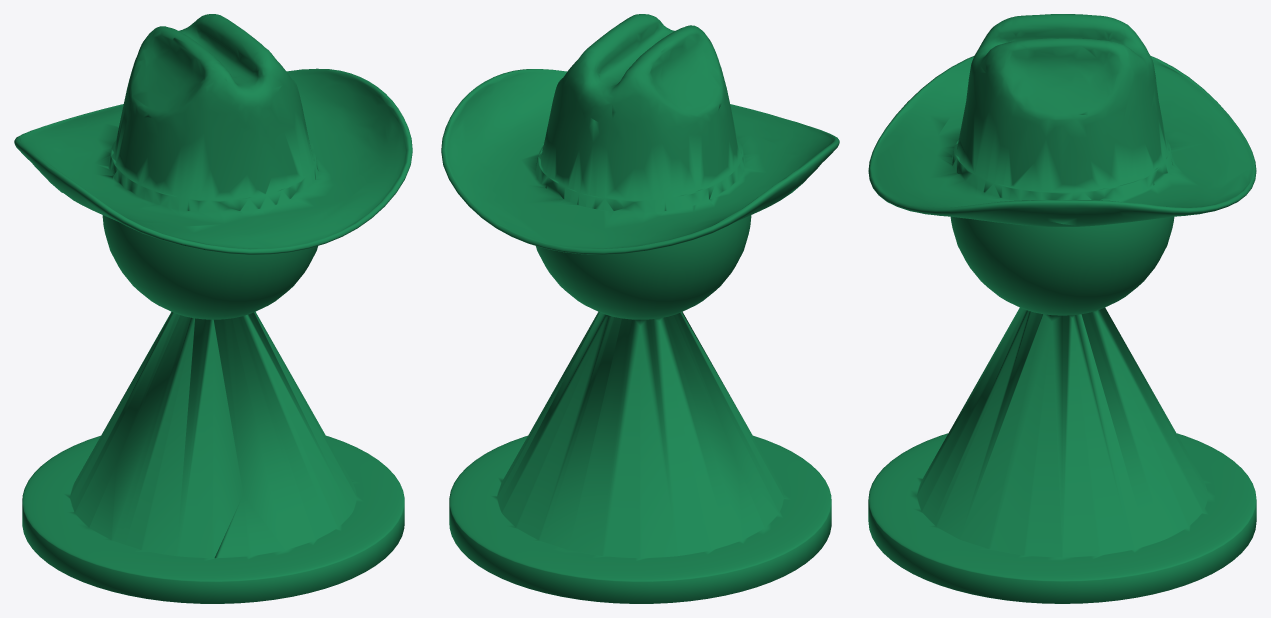
File: Engenheiro_Agronomo.fbx
3 views of the same model, side by side, from view 1: azimuth 30°, elevation 25°; view 2: azimuth 150°, elevation 25°; view 3: azimuth 270°, elevation 25° (orthographic).
Parts seen in each view (by area): view 1: Eng. Agronomo - Amiraldo; view 2: Eng. Agronomo - Amiraldo; view 3: Eng. Agronomo - Amiraldo.
Boxes of the visible parts, <box> form: Eng. Agronomo - Amiraldo: <box>14,14,412,603</box>; Eng. Agronomo - Amiraldo: <box>441,14,839,603</box>; Eng. Agronomo - Amiraldo: <box>868,14,1256,603</box>.
Bounding box in the file's own units: 1028 × 1456 × 1028.
